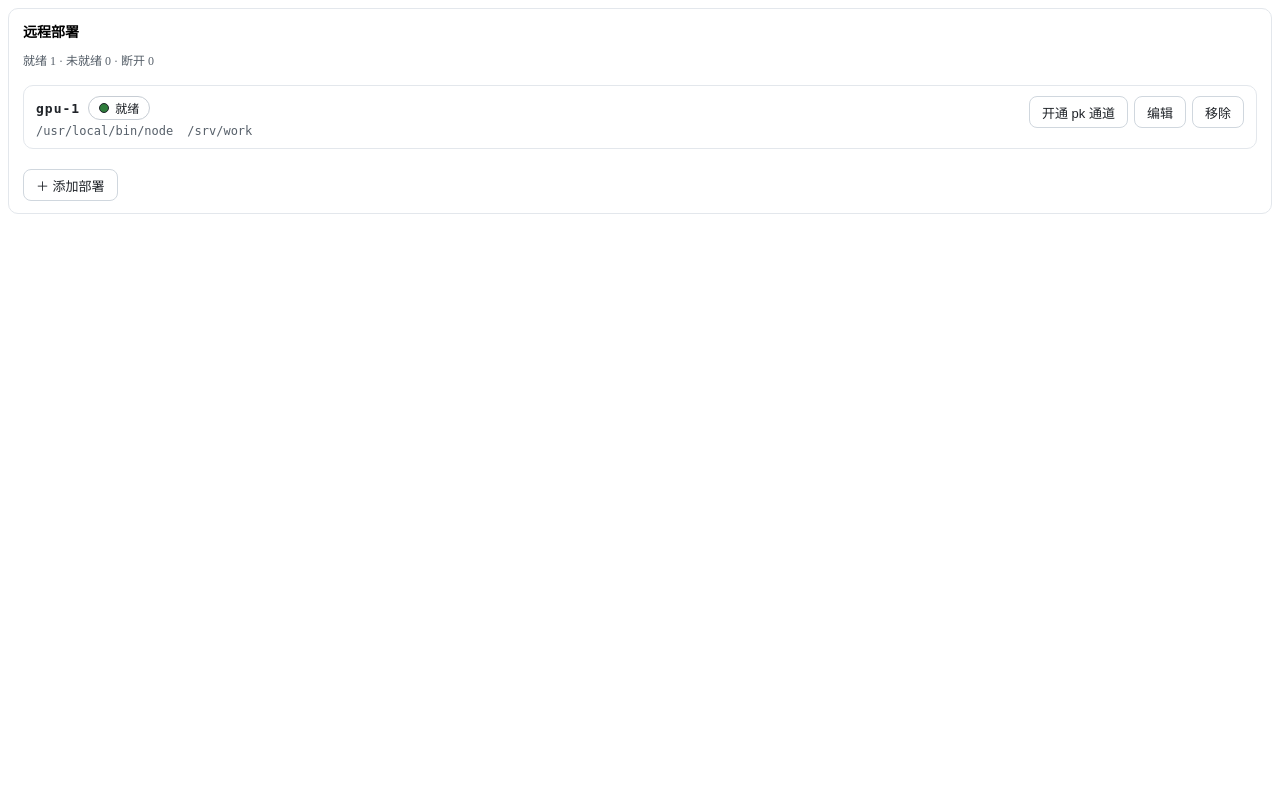
Scenario: pk 通道开通（ADR-0003） › 失败报告（pkSetupFail 编排）→ Modal 呈现失败步骤详情（分步指引不炸信封）
The width and height of the screenshot is (1280, 800).
Click the button with test id "deploy-setup-pk" at (1078, 112), box [1029, 96, 1128, 128]
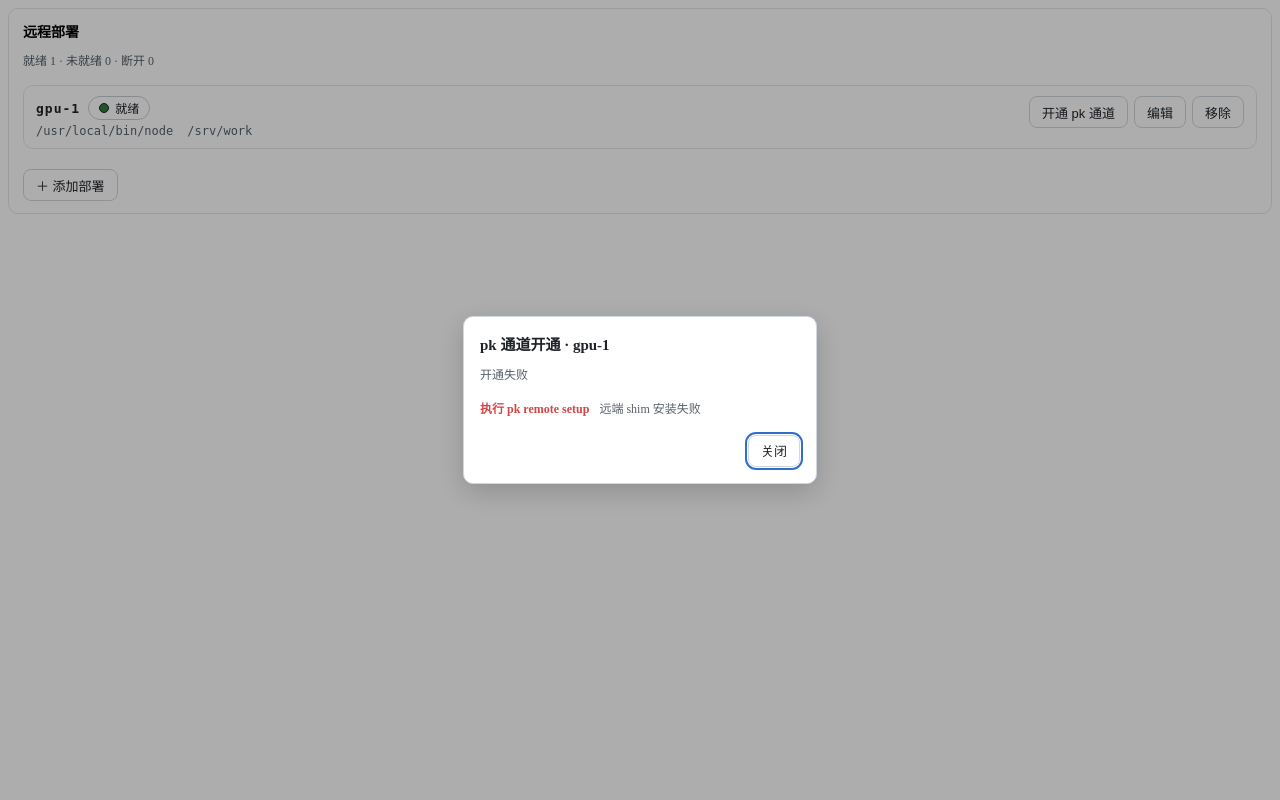
Expected: the element with test id "deploy-pk-report" shows "开通失败", [480, 368, 528, 382]
Expected: the element with test id "deploy-pk-report" shows "远端 shim 安装失败", [600, 402, 701, 416]
